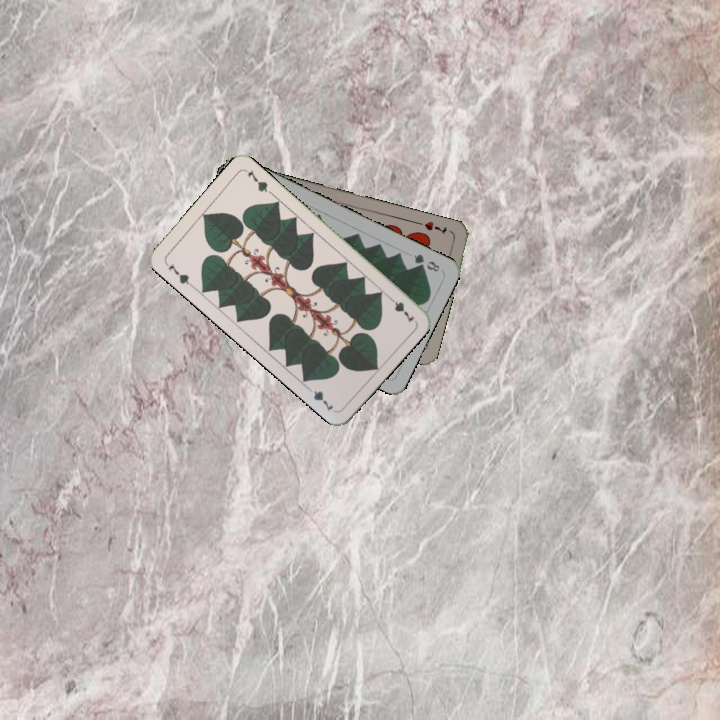G7: (383, 292, 417, 326), (161, 259, 195, 289)
G8: (410, 250, 443, 274)
H7: (420, 217, 449, 237)
